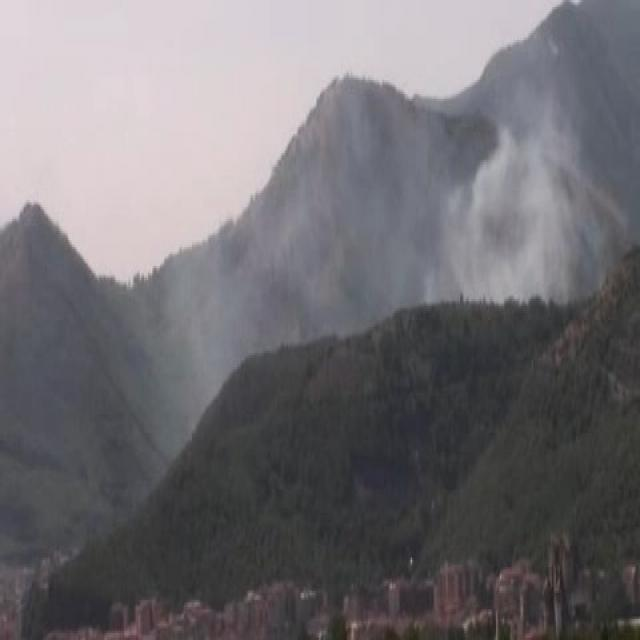smoke: (285, 138, 594, 302)
